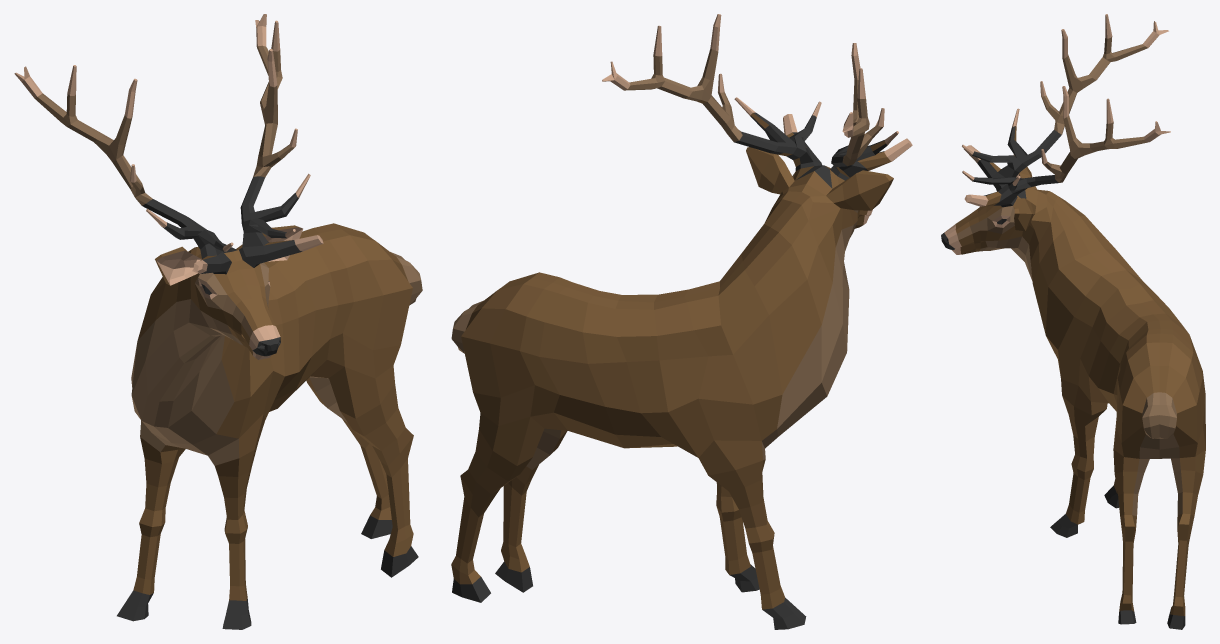
Rendered from Stag_Posed.fbx.
3 views of the same model, side by side, from view 1: azimuth 30°, elevation 25°; view 2: azimuth 150°, elevation 25°; view 3: azimuth 270°, elevation 25° (orthographic). The views are drawn at different scales.
Visible parts, largest first — view 1: Stag Posed; view 2: Stag Posed; view 3: Stag Posed.
Boxes of the visible parts, x1,y1,x2,y2 form: Stag Posed: [14, 14, 422, 629]; Stag Posed: [451, 14, 912, 629]; Stag Posed: [941, 14, 1205, 629].
Size of the model in its own units: 134 by 193 by 96.2.
